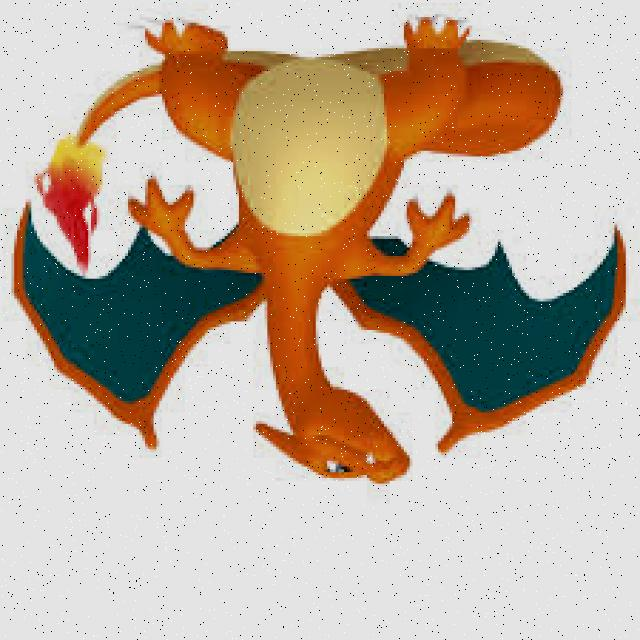charizard: (10, 18, 627, 496)
